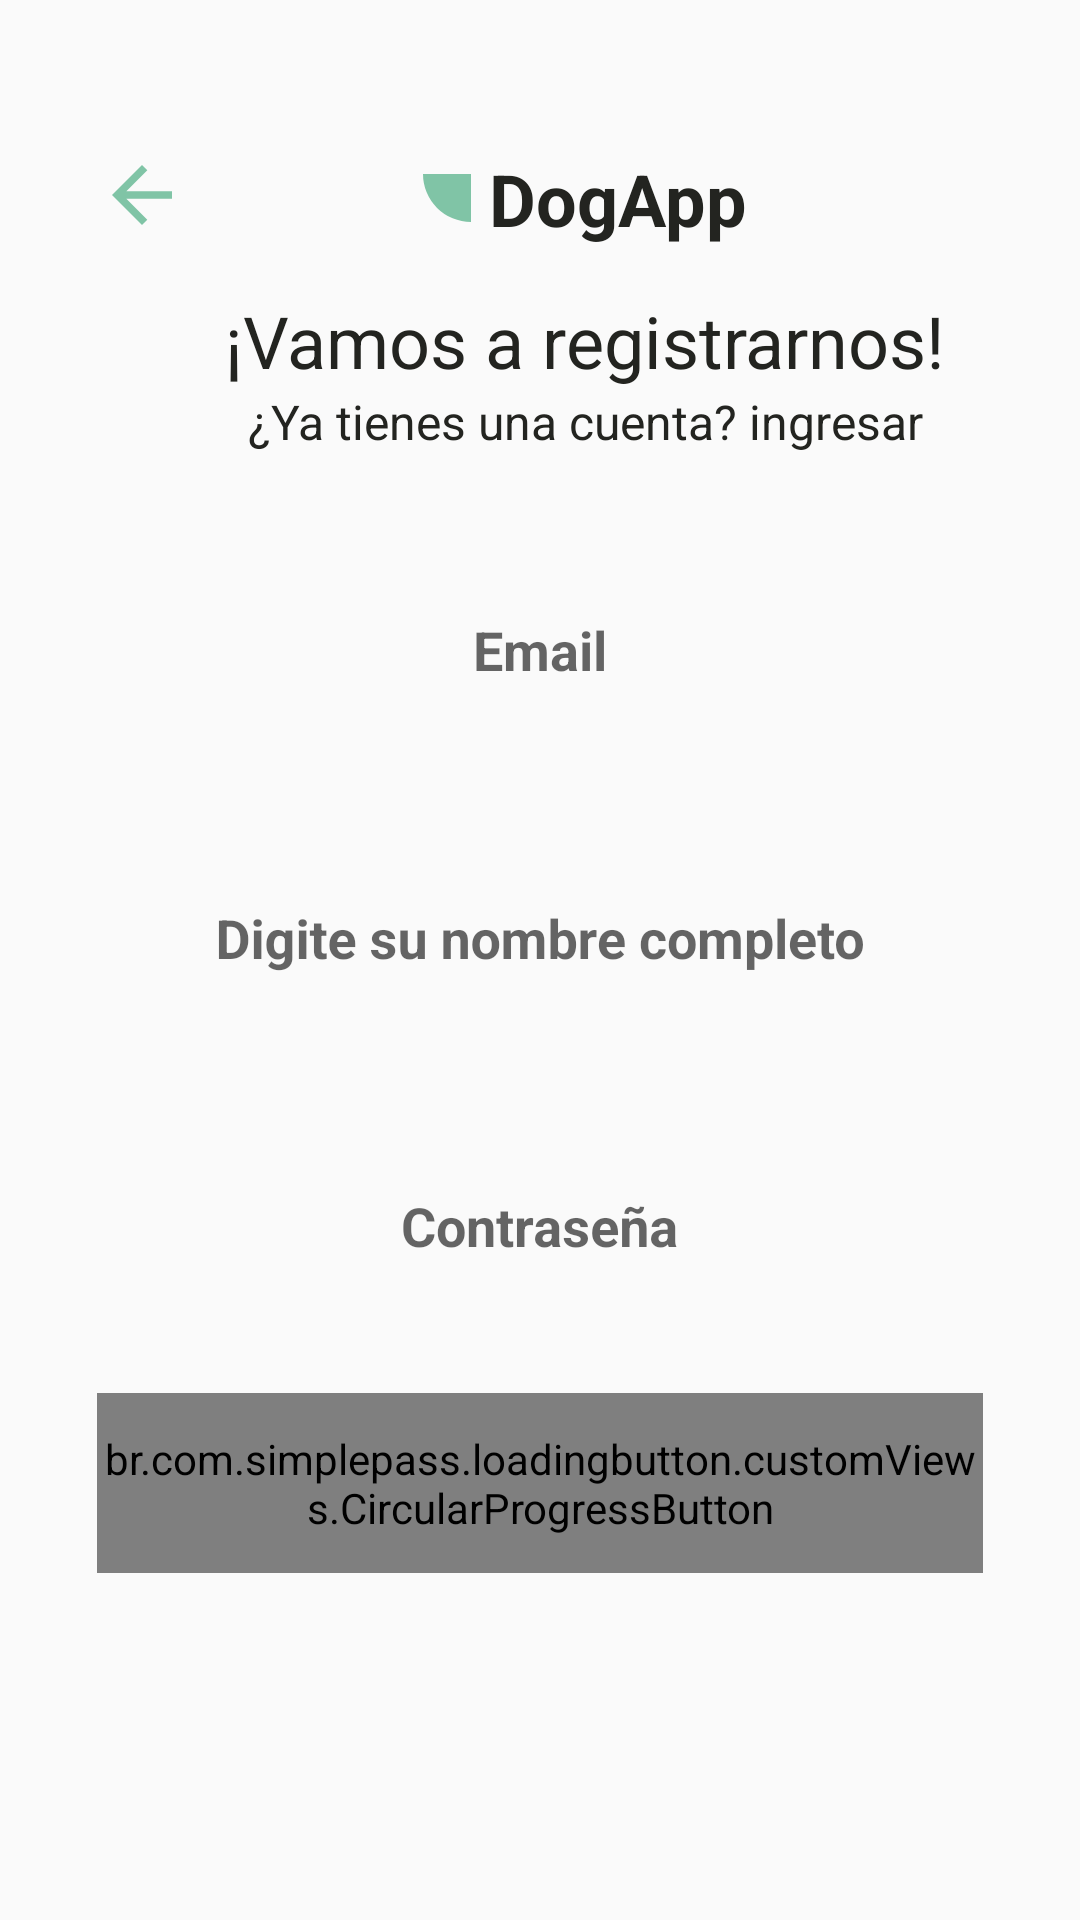

Icons on this 1080px x 1920px Android screen, each with its box as (x1, y1, x2, y2):
Imagen para el back: (112, 165, 172, 225)
